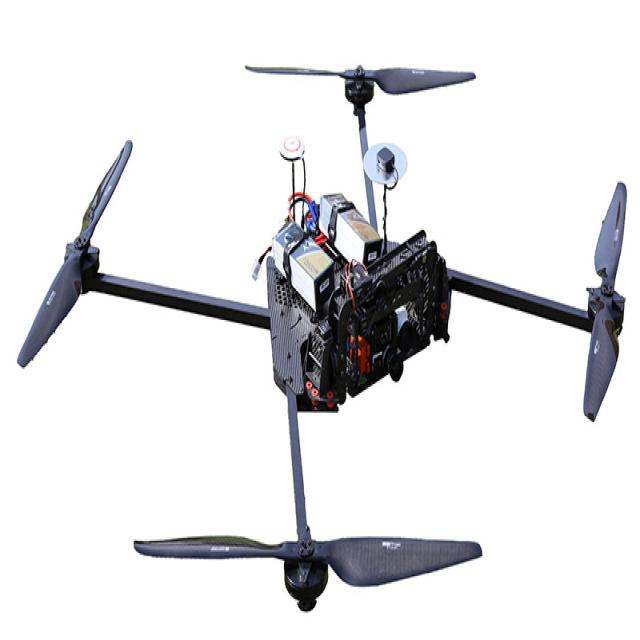drone: (33, 11, 640, 640)
